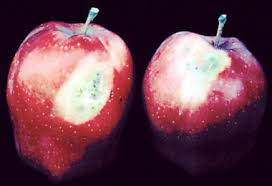damaged_apple: (9, 21, 133, 173), (147, 29, 260, 173)
